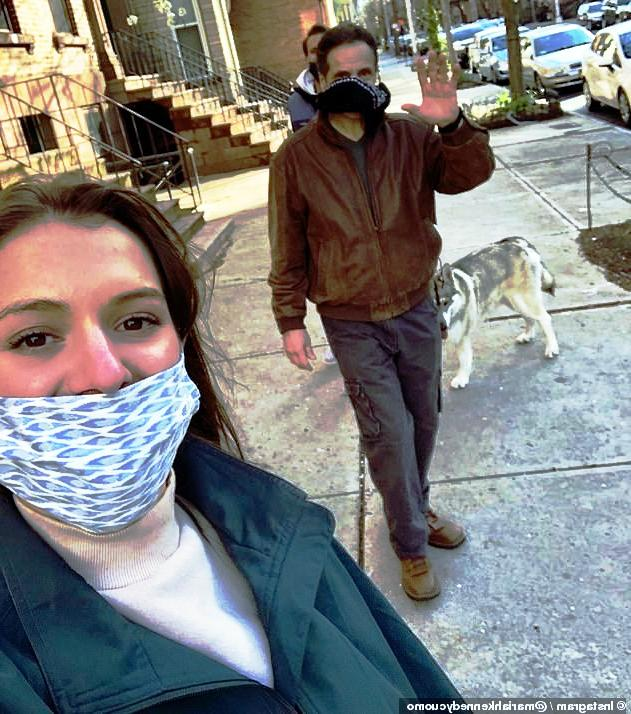mask_weared_incorrect: (1, 177, 203, 532)
